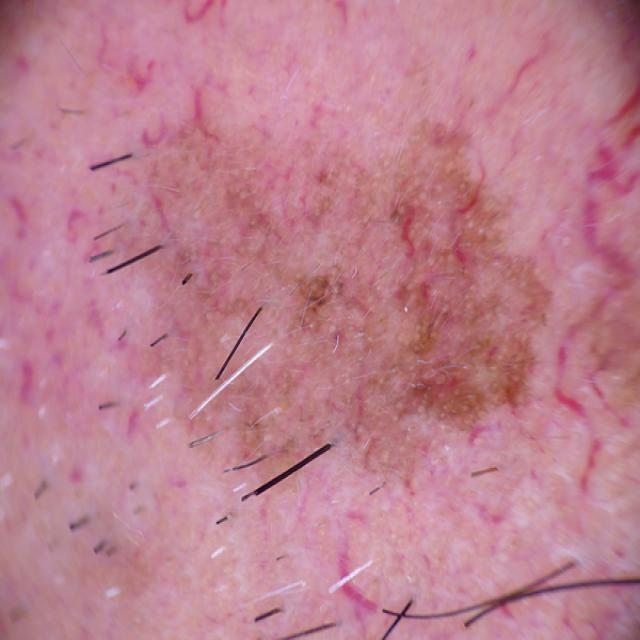Skin-Cancer Pigmented benign keratosis: (6, 14, 640, 640)
